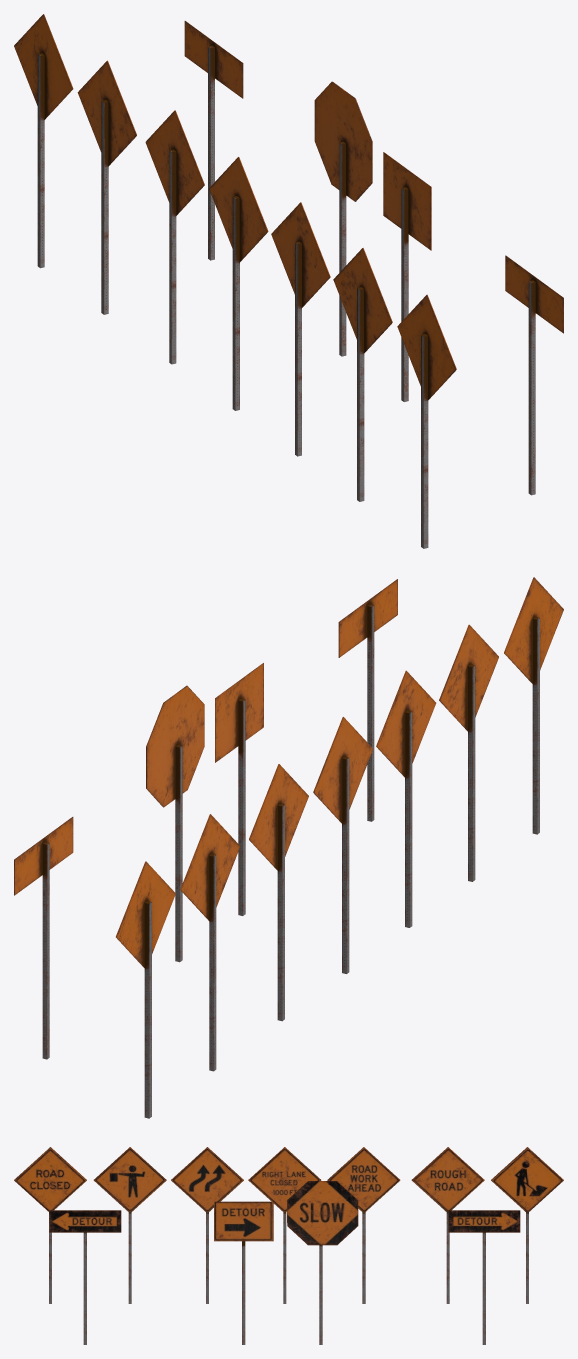
Rendered from signs_board.fbx.
The picture shows the model from 3 angles, top to bottom: view 1: azimuth 30°, elevation 25°; view 2: azimuth 150°, elevation 25°; view 3: azimuth 270°, elevation 25°; orthographic projection. The views are drawn at different scales.
Parts seen in each view (by area): view 1: pCube51, pCube44, pCube45, pCube43, pCube46, pCube49, pCube40, pCube42, pCube41, pCube48, pCube47, pCube104 (+10 smaller); view 2: pCube51, pCube42, pCube43, pCube45, pCube44, pCube49, pCube40, pCube46, pCube41, pCube47, pCube48, pCube101 (+10 smaller); view 3: pCube51, pCube44, pCube41, pCube45, pCube40, pCube42, pCube49, pCube46, pCube43, pCube47, pCube48, pCube101 (+9 smaller).
Boxes of the visible parts, box(x1,y1,x2,y2) form: pCube51: box(314, 81, 372, 201); pCube44: box(14, 14, 73, 119); pCube45: box(77, 60, 136, 166); pCube43: box(209, 157, 268, 261); pCube46: box(145, 110, 204, 215); pCube49: box(383, 152, 431, 250); pCube40: box(397, 294, 456, 400); pCube42: box(271, 202, 330, 307); pCube41: box(333, 248, 392, 353); pCube48: box(184, 21, 243, 98); pCube47: box(505, 255, 563, 333); pCube104: box(528, 280, 535, 495); pCube51: box(146, 685, 204, 807); pCube42: box(376, 670, 436, 777); pCube43: box(313, 717, 373, 823); pCube45: box(180, 814, 240, 920); pCube44: box(116, 861, 175, 967); pCube49: box(215, 663, 263, 762); pCube40: box(504, 577, 563, 683); pCube46: box(249, 764, 308, 870); pCube41: box(439, 624, 498, 731); pCube47: box(338, 579, 397, 657); pCube48: box(14, 817, 73, 895); pCube101: box(42, 842, 49, 1059); pCube51: box(287, 1181, 358, 1245); pCube44: box(491, 1147, 563, 1213); pCube41: box(93, 1147, 166, 1213); pCube45: box(411, 1147, 484, 1212); pCube40: box(14, 1147, 86, 1211); pCube42: box(171, 1147, 243, 1213); pCube49: box(214, 1201, 273, 1241); pCube46: box(327, 1147, 400, 1213); pCube43: box(248, 1147, 321, 1213); pCube47: box(49, 1210, 121, 1232); pCube48: box(448, 1210, 520, 1232); pCube101: box(482, 1232, 485, 1344).
Size of the model in its own units: 150 by 269 by 818.
